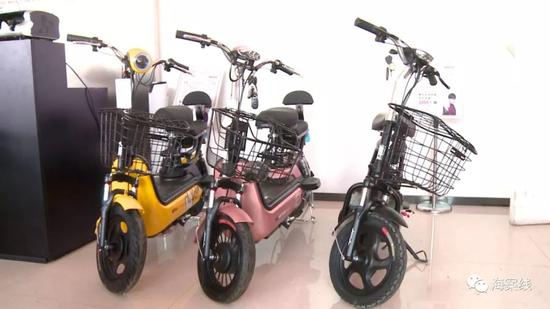电动车: (329, 14, 479, 309), (172, 23, 322, 306), (60, 26, 209, 295)
